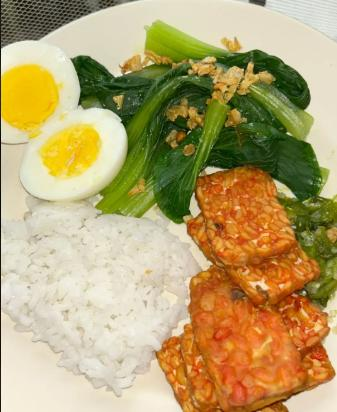buah_sayur_lainnya: (133, 62, 285, 159)
kacang_legume: (207, 311, 294, 399), (215, 174, 271, 257)
makanan_berpati: (39, 222, 166, 331)
telur: (49, 125, 110, 185), (3, 49, 54, 120)
